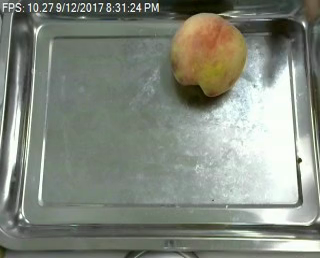Peach: (169, 12, 247, 97)
